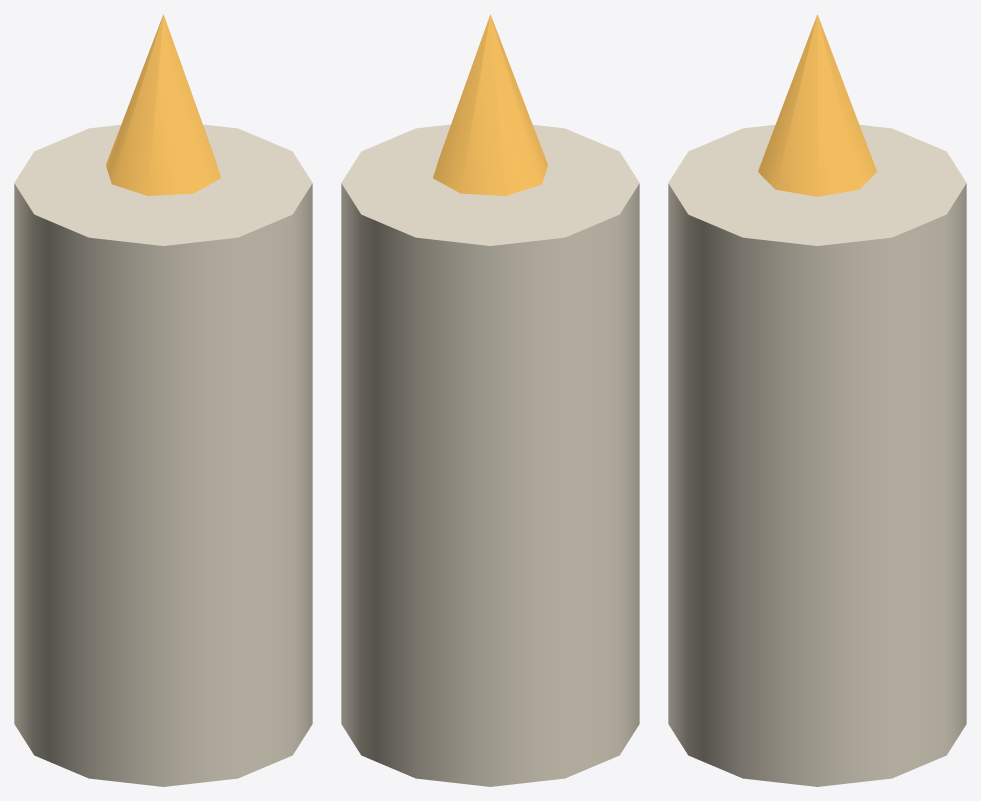
Rendered from candle.glb.
The picture shows the model from 3 angles, left to right: view 1: azimuth 30°, elevation 25°; view 2: azimuth 150°, elevation 25°; view 3: azimuth 270°, elevation 25°; orthographic projection.
Bounding box in the file's own units: 0.06 × 0.1575 × 0.06.
